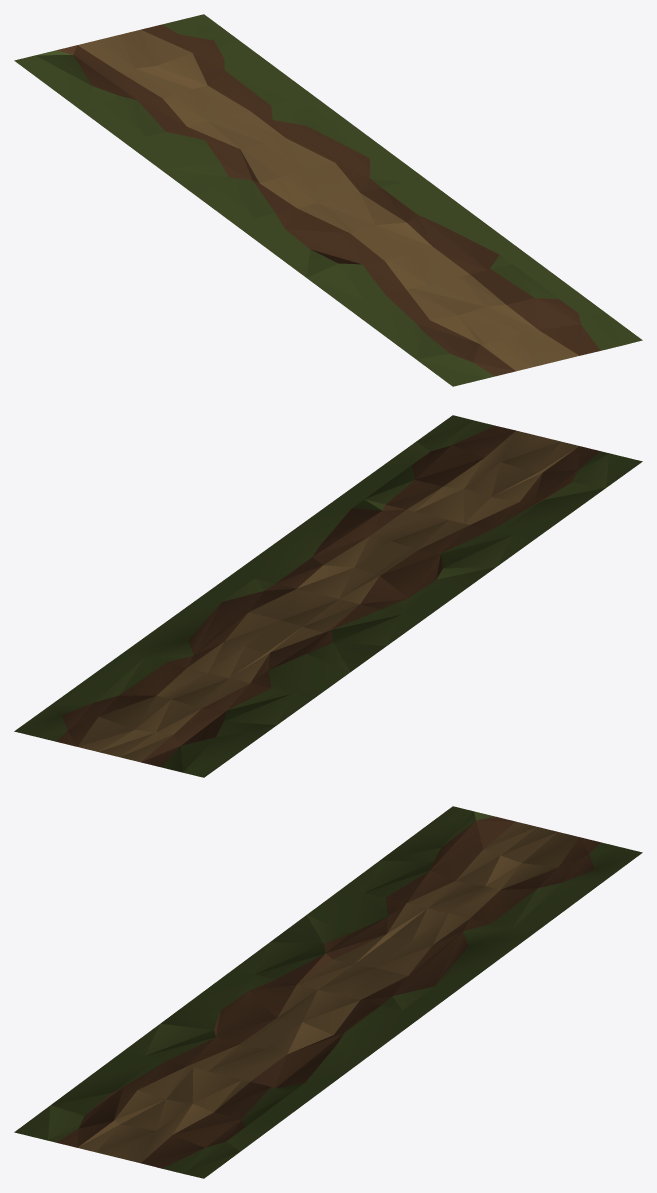
Rendered from sol_violet.fbx.
3 views of the same model, one above another, from view 1: azimuth 30°, elevation 25°; view 2: azimuth 150°, elevation 25°; view 3: azimuth 330°, elevation 25° (orthographic).
Visible parts, largest first — view 1: stump.010; view 2: stump.010; view 3: stump.010.
Part boxes in pixels (left/top/right/bottom): stump.010: left=14, top=14, right=642, bottom=386; stump.010: left=14, top=415, right=642, bottom=777; stump.010: left=14, top=806, right=642, bottom=1178.
Size of the model in its own units: 200 by 17.03 by 800.
